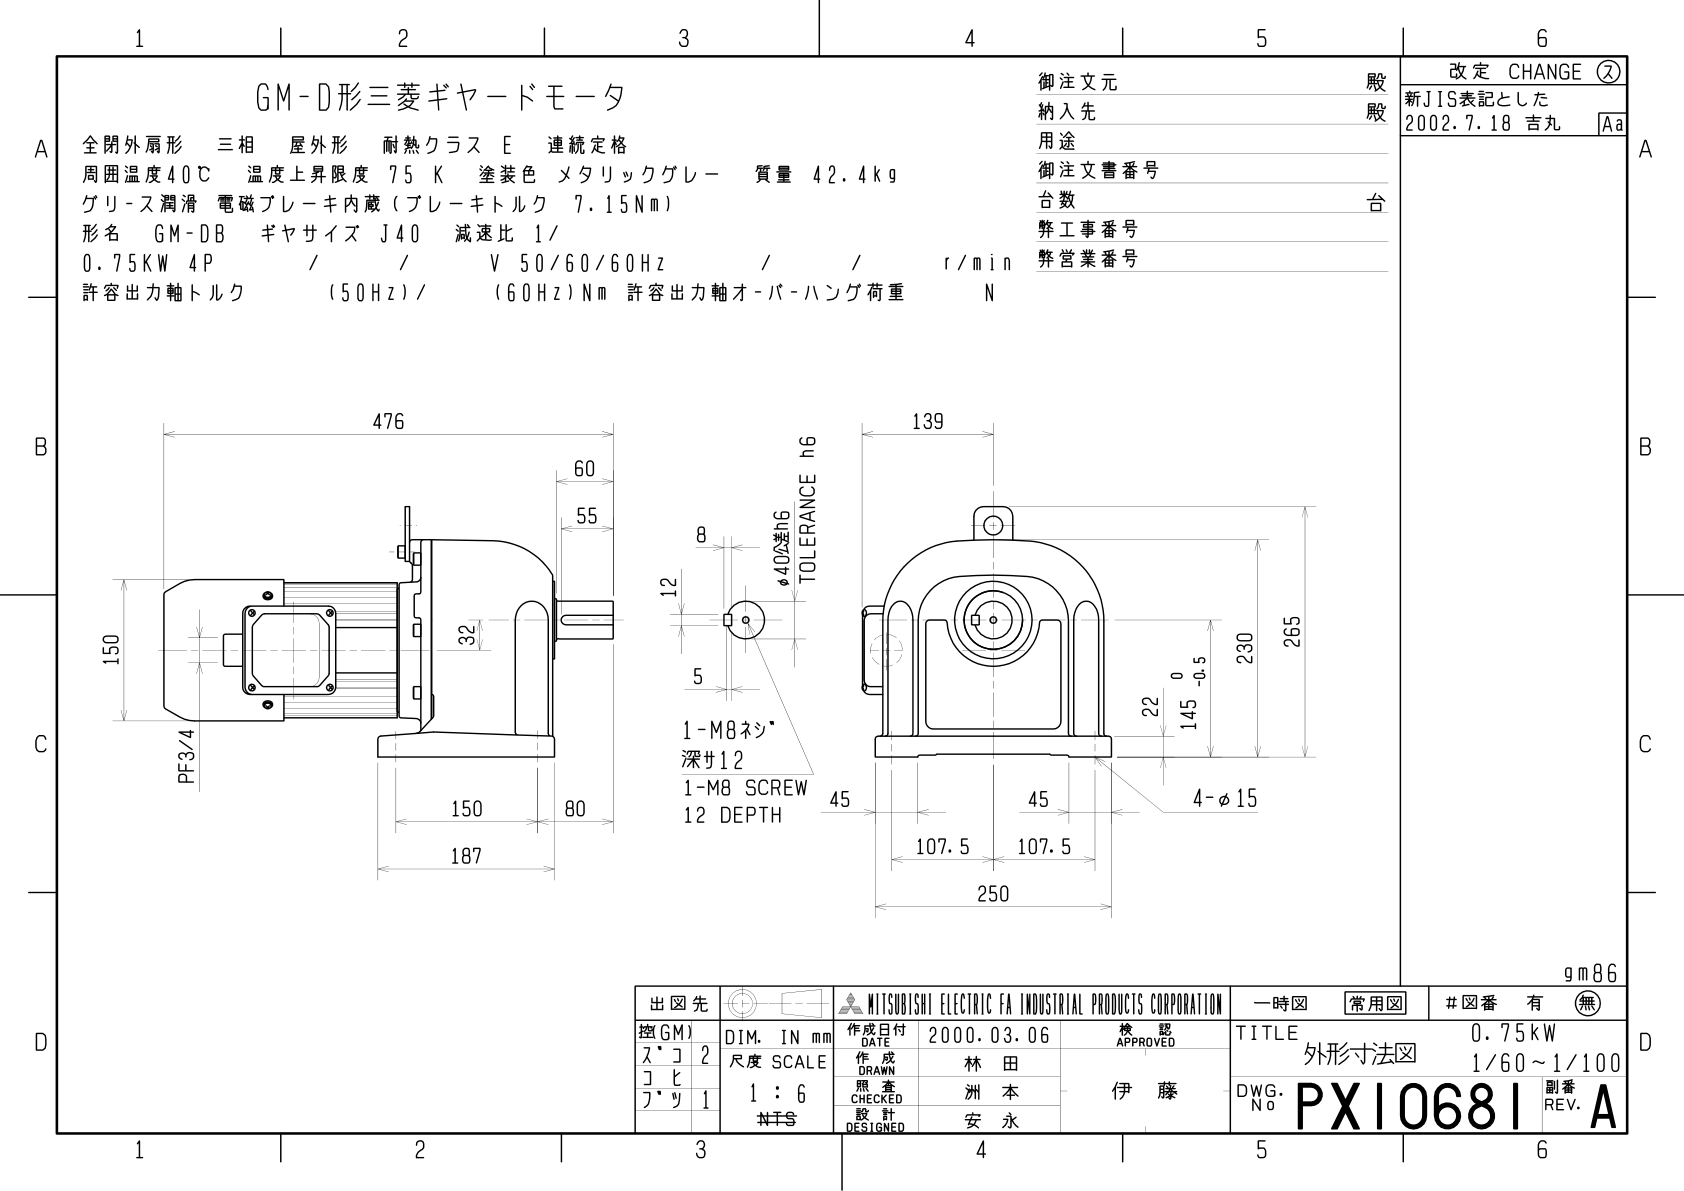GM_D_屋外＿三相_脚: (85, 375, 1373, 953)
